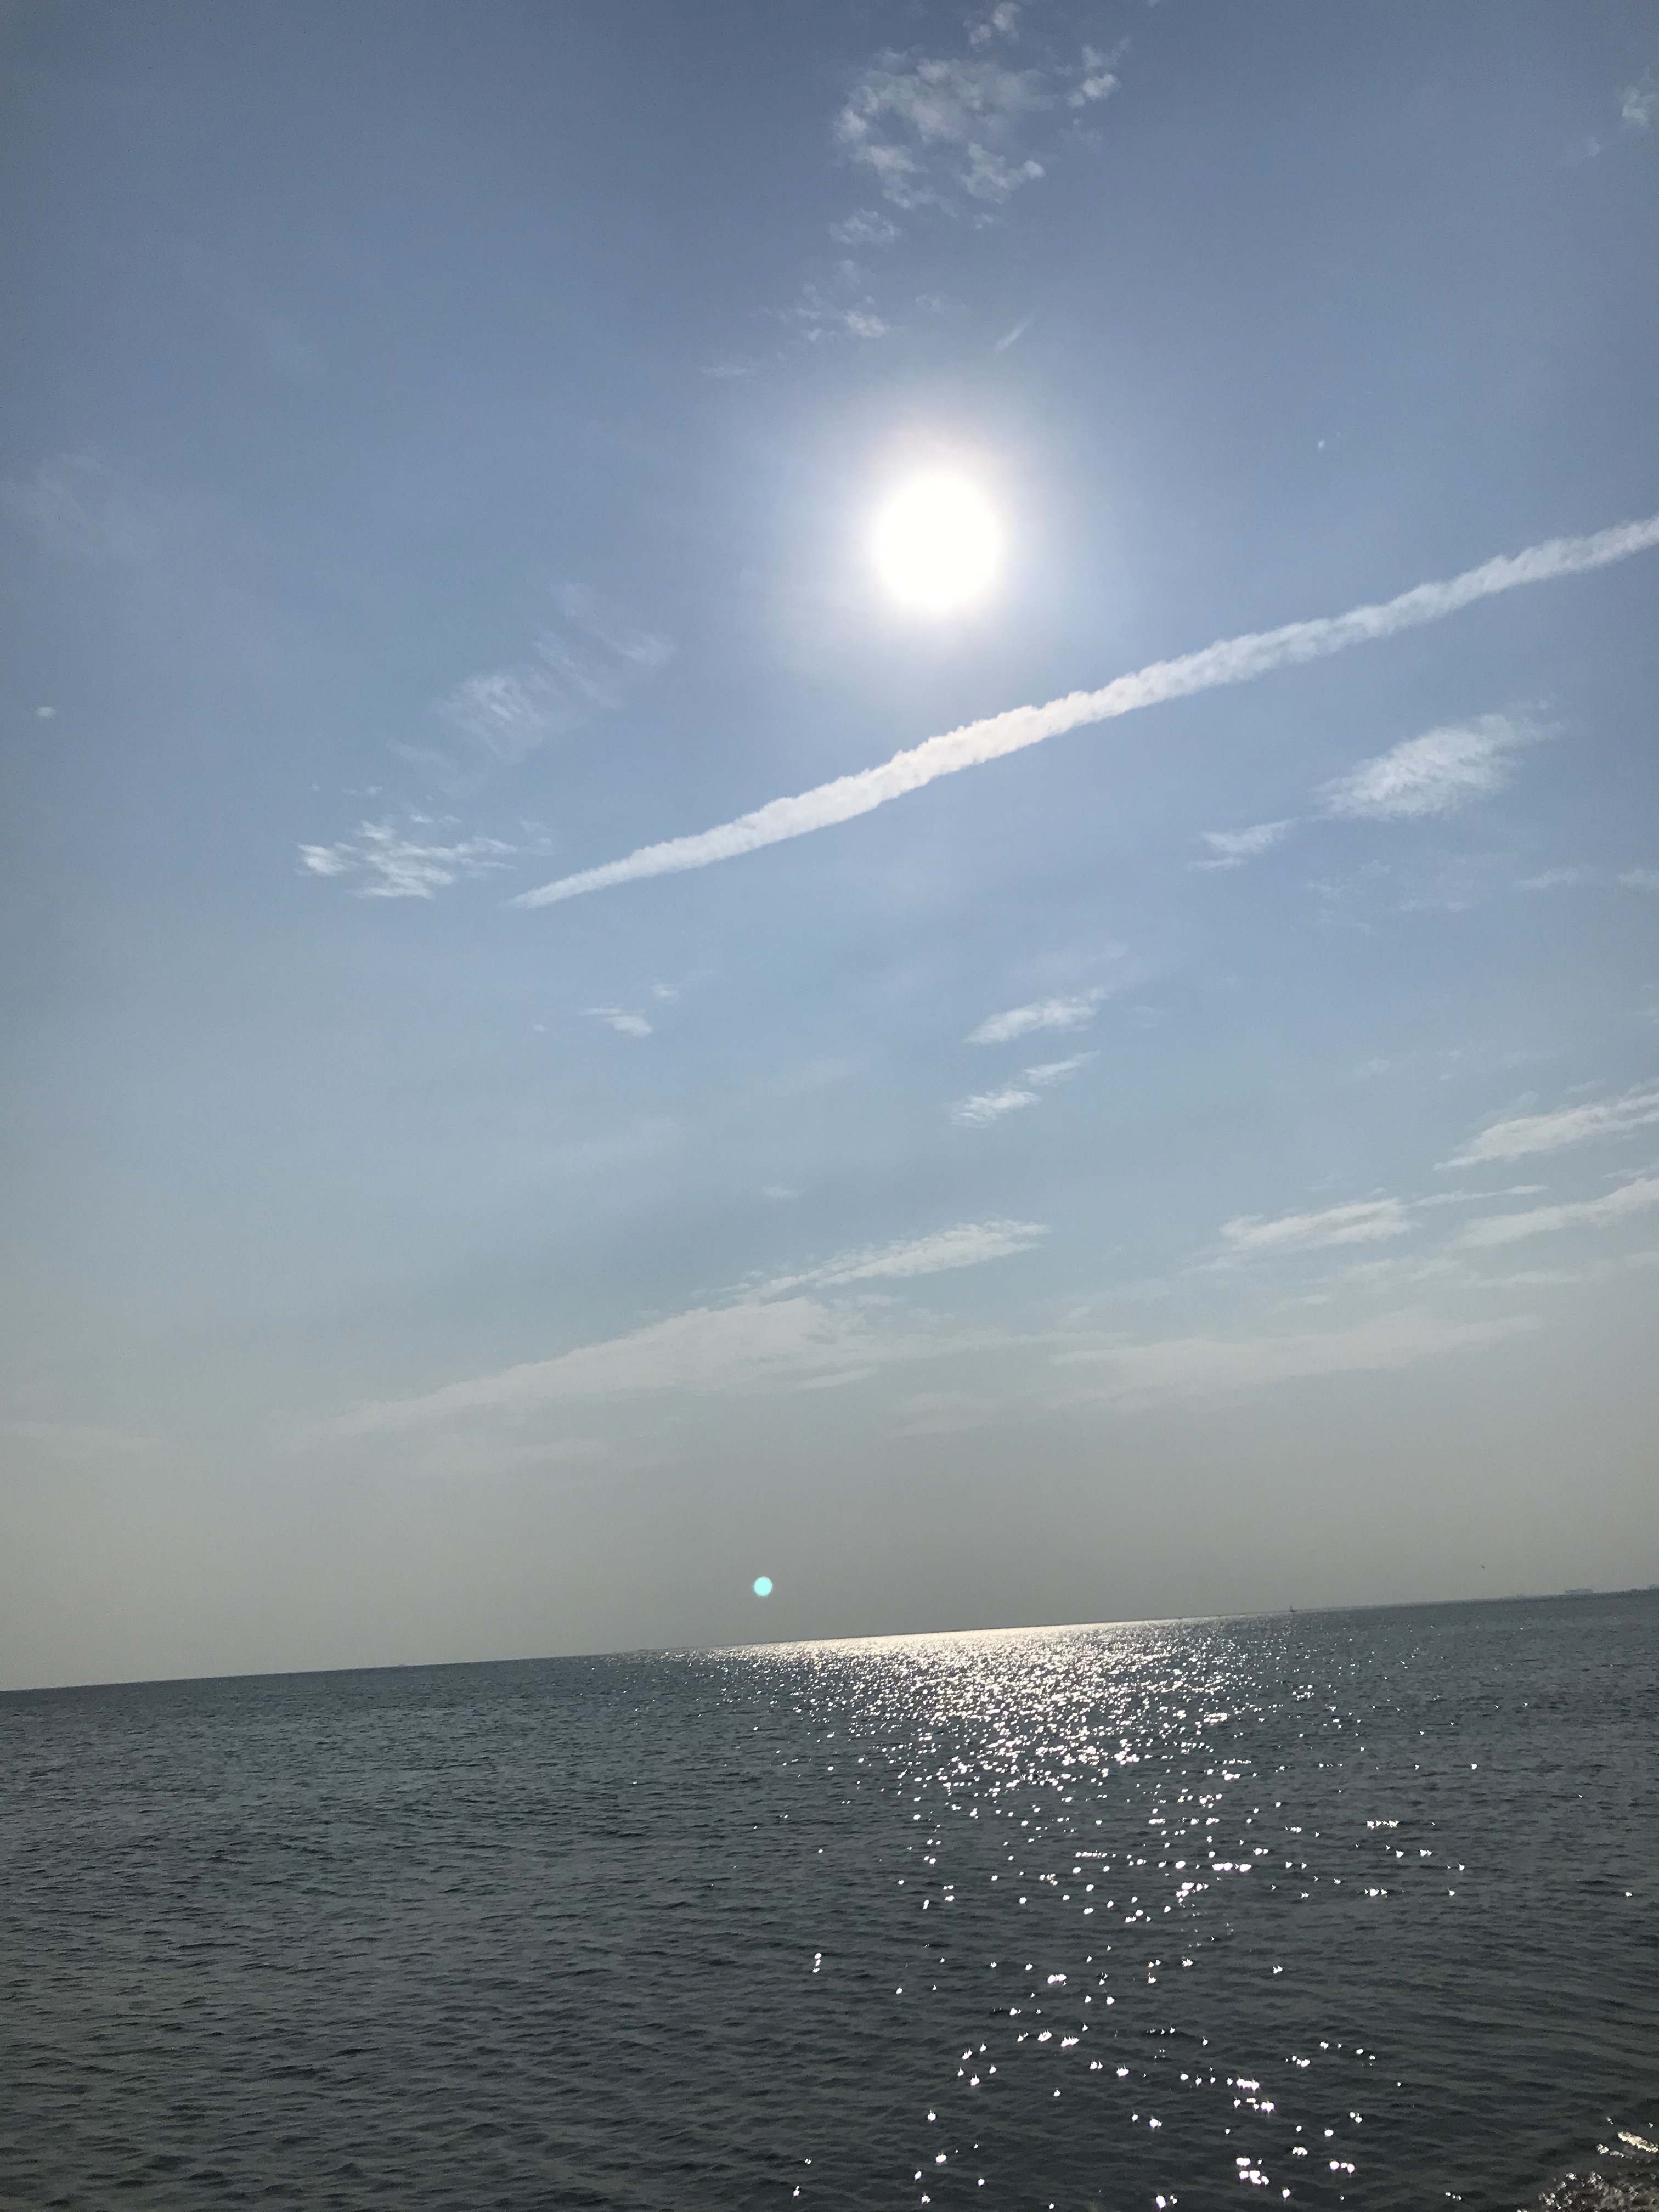flare: (751, 1575, 775, 1599)
